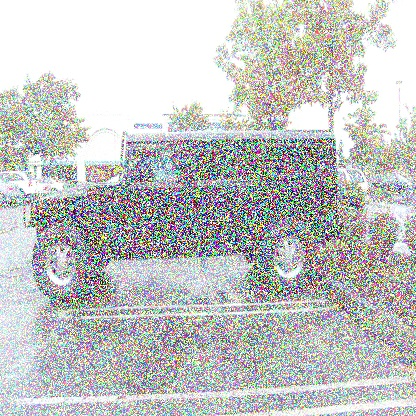Vehicle: (23, 130, 346, 304)
